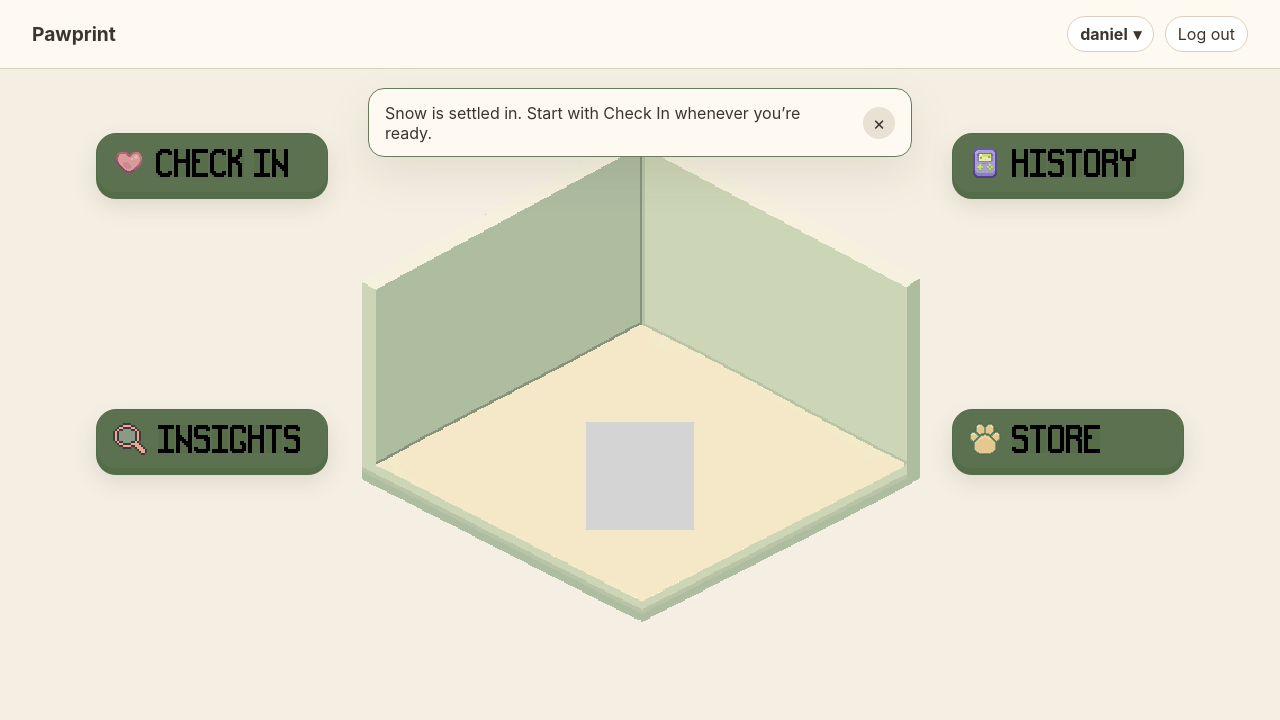
Test: App › shows the post-onboarding Home hint once and lets the user dismiss it
The image size is (1280, 720).
Expected: the text "Snow is settled in. Start with Check In whenever you’re ready." is shown, [385,103,847,143]
Step 1. Click the button named "Dismiss welcome message" → {"x": 879, "y": 123}, box [863,107,895,139]
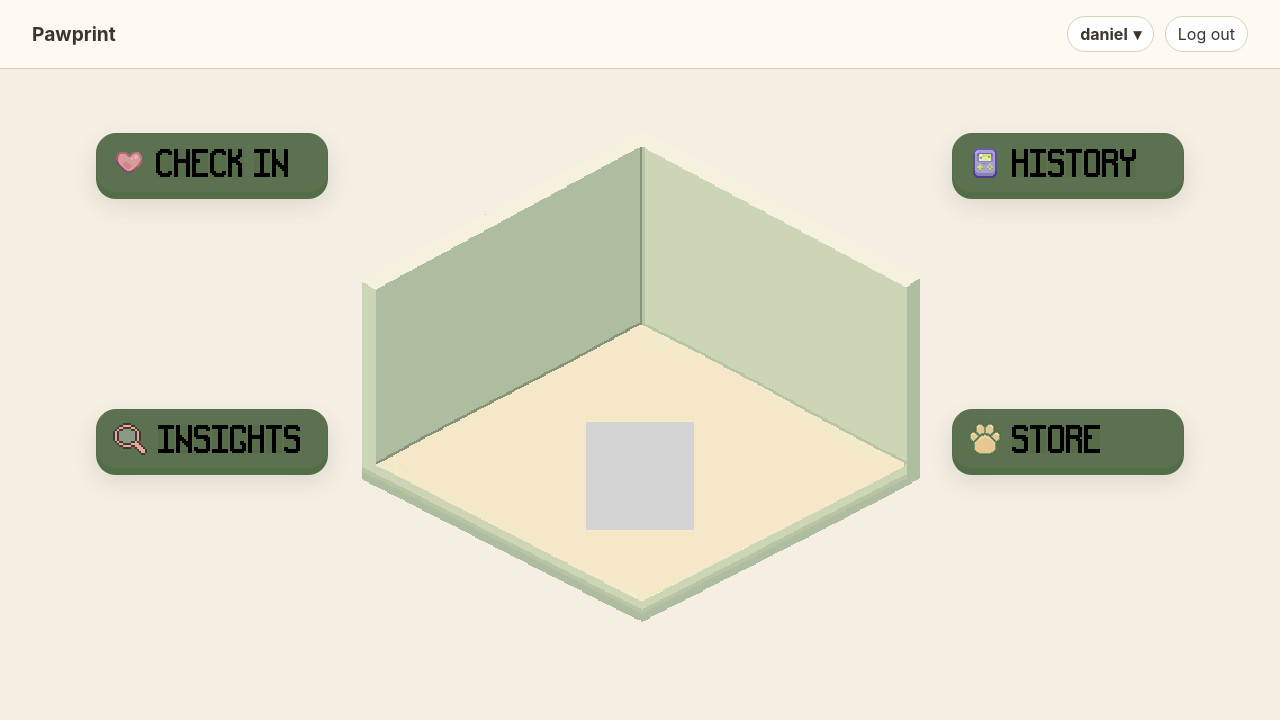
Now the text "Snow is settled in. Start with Check In whenever you’re ready." is gone
